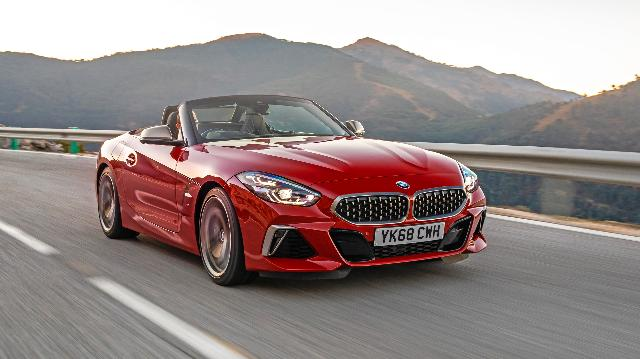bmw: (96, 94, 488, 286)
